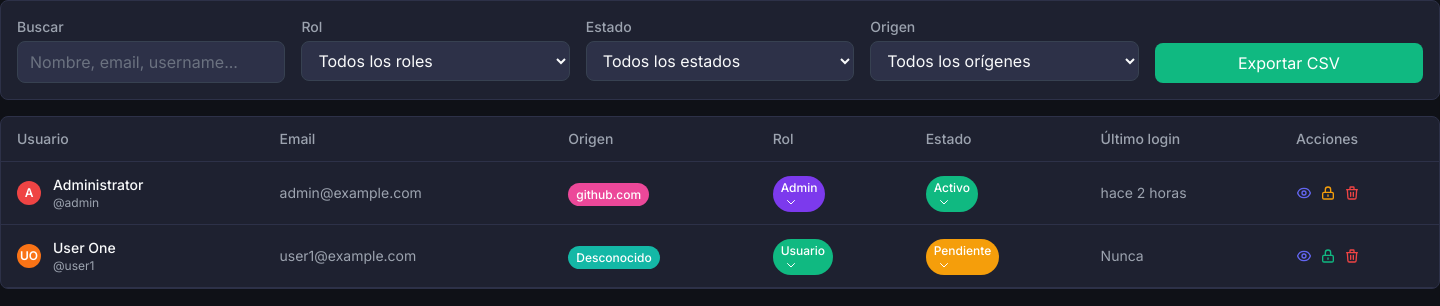
UsersTable › debería dejar la tabla vacía cuando la búsqueda no tiene resultados
Type "zzz" into the field labelled "Buscar" at (151, 62), box [17,41,285,83]
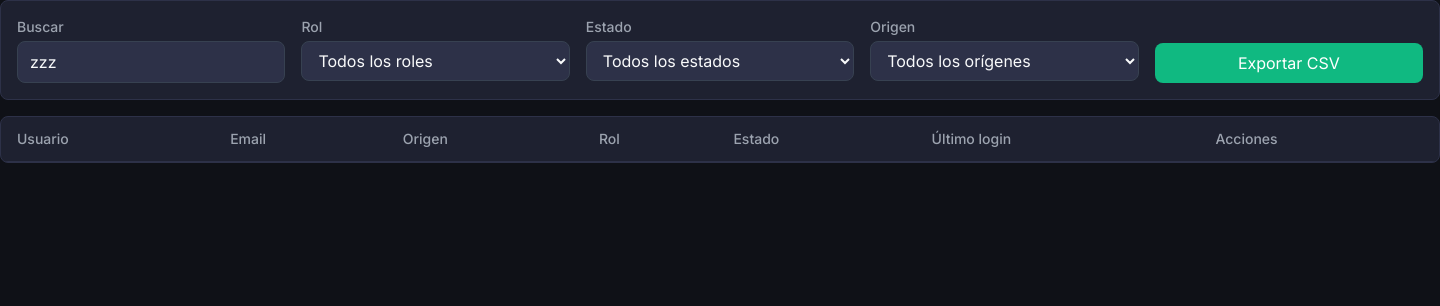
expect the number of rows is 1: met, box [1,117,1439,162]
expect the text "@admin" is gone: met
